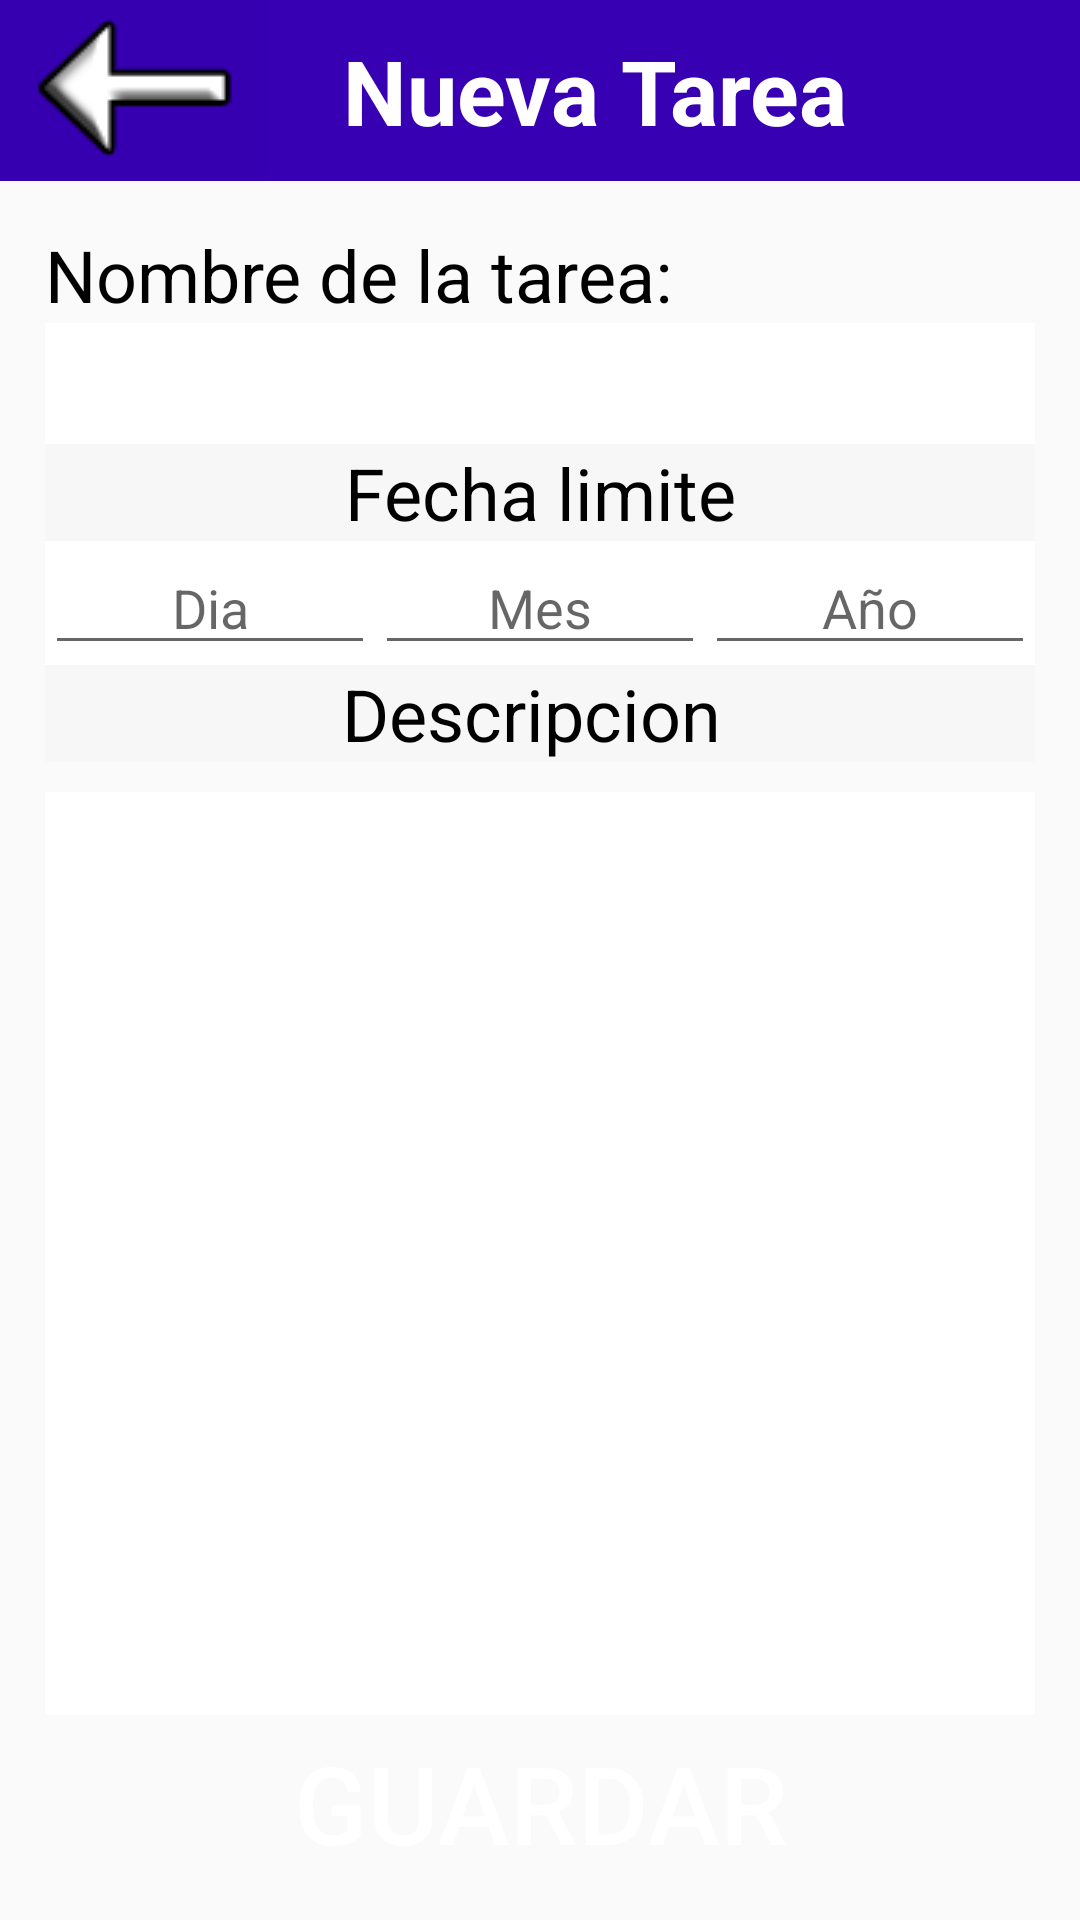

Screen size 1080×1920. Icon name, then its box in pixels as (x1, y1, x2, y2):
backeste: (38, 19, 232, 157)
